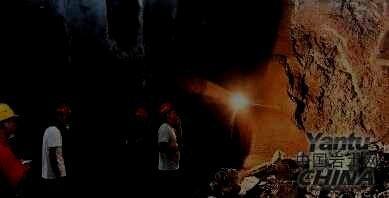helmet: (1, 103, 21, 136), (53, 104, 72, 129), (158, 102, 179, 121), (133, 108, 148, 127)
